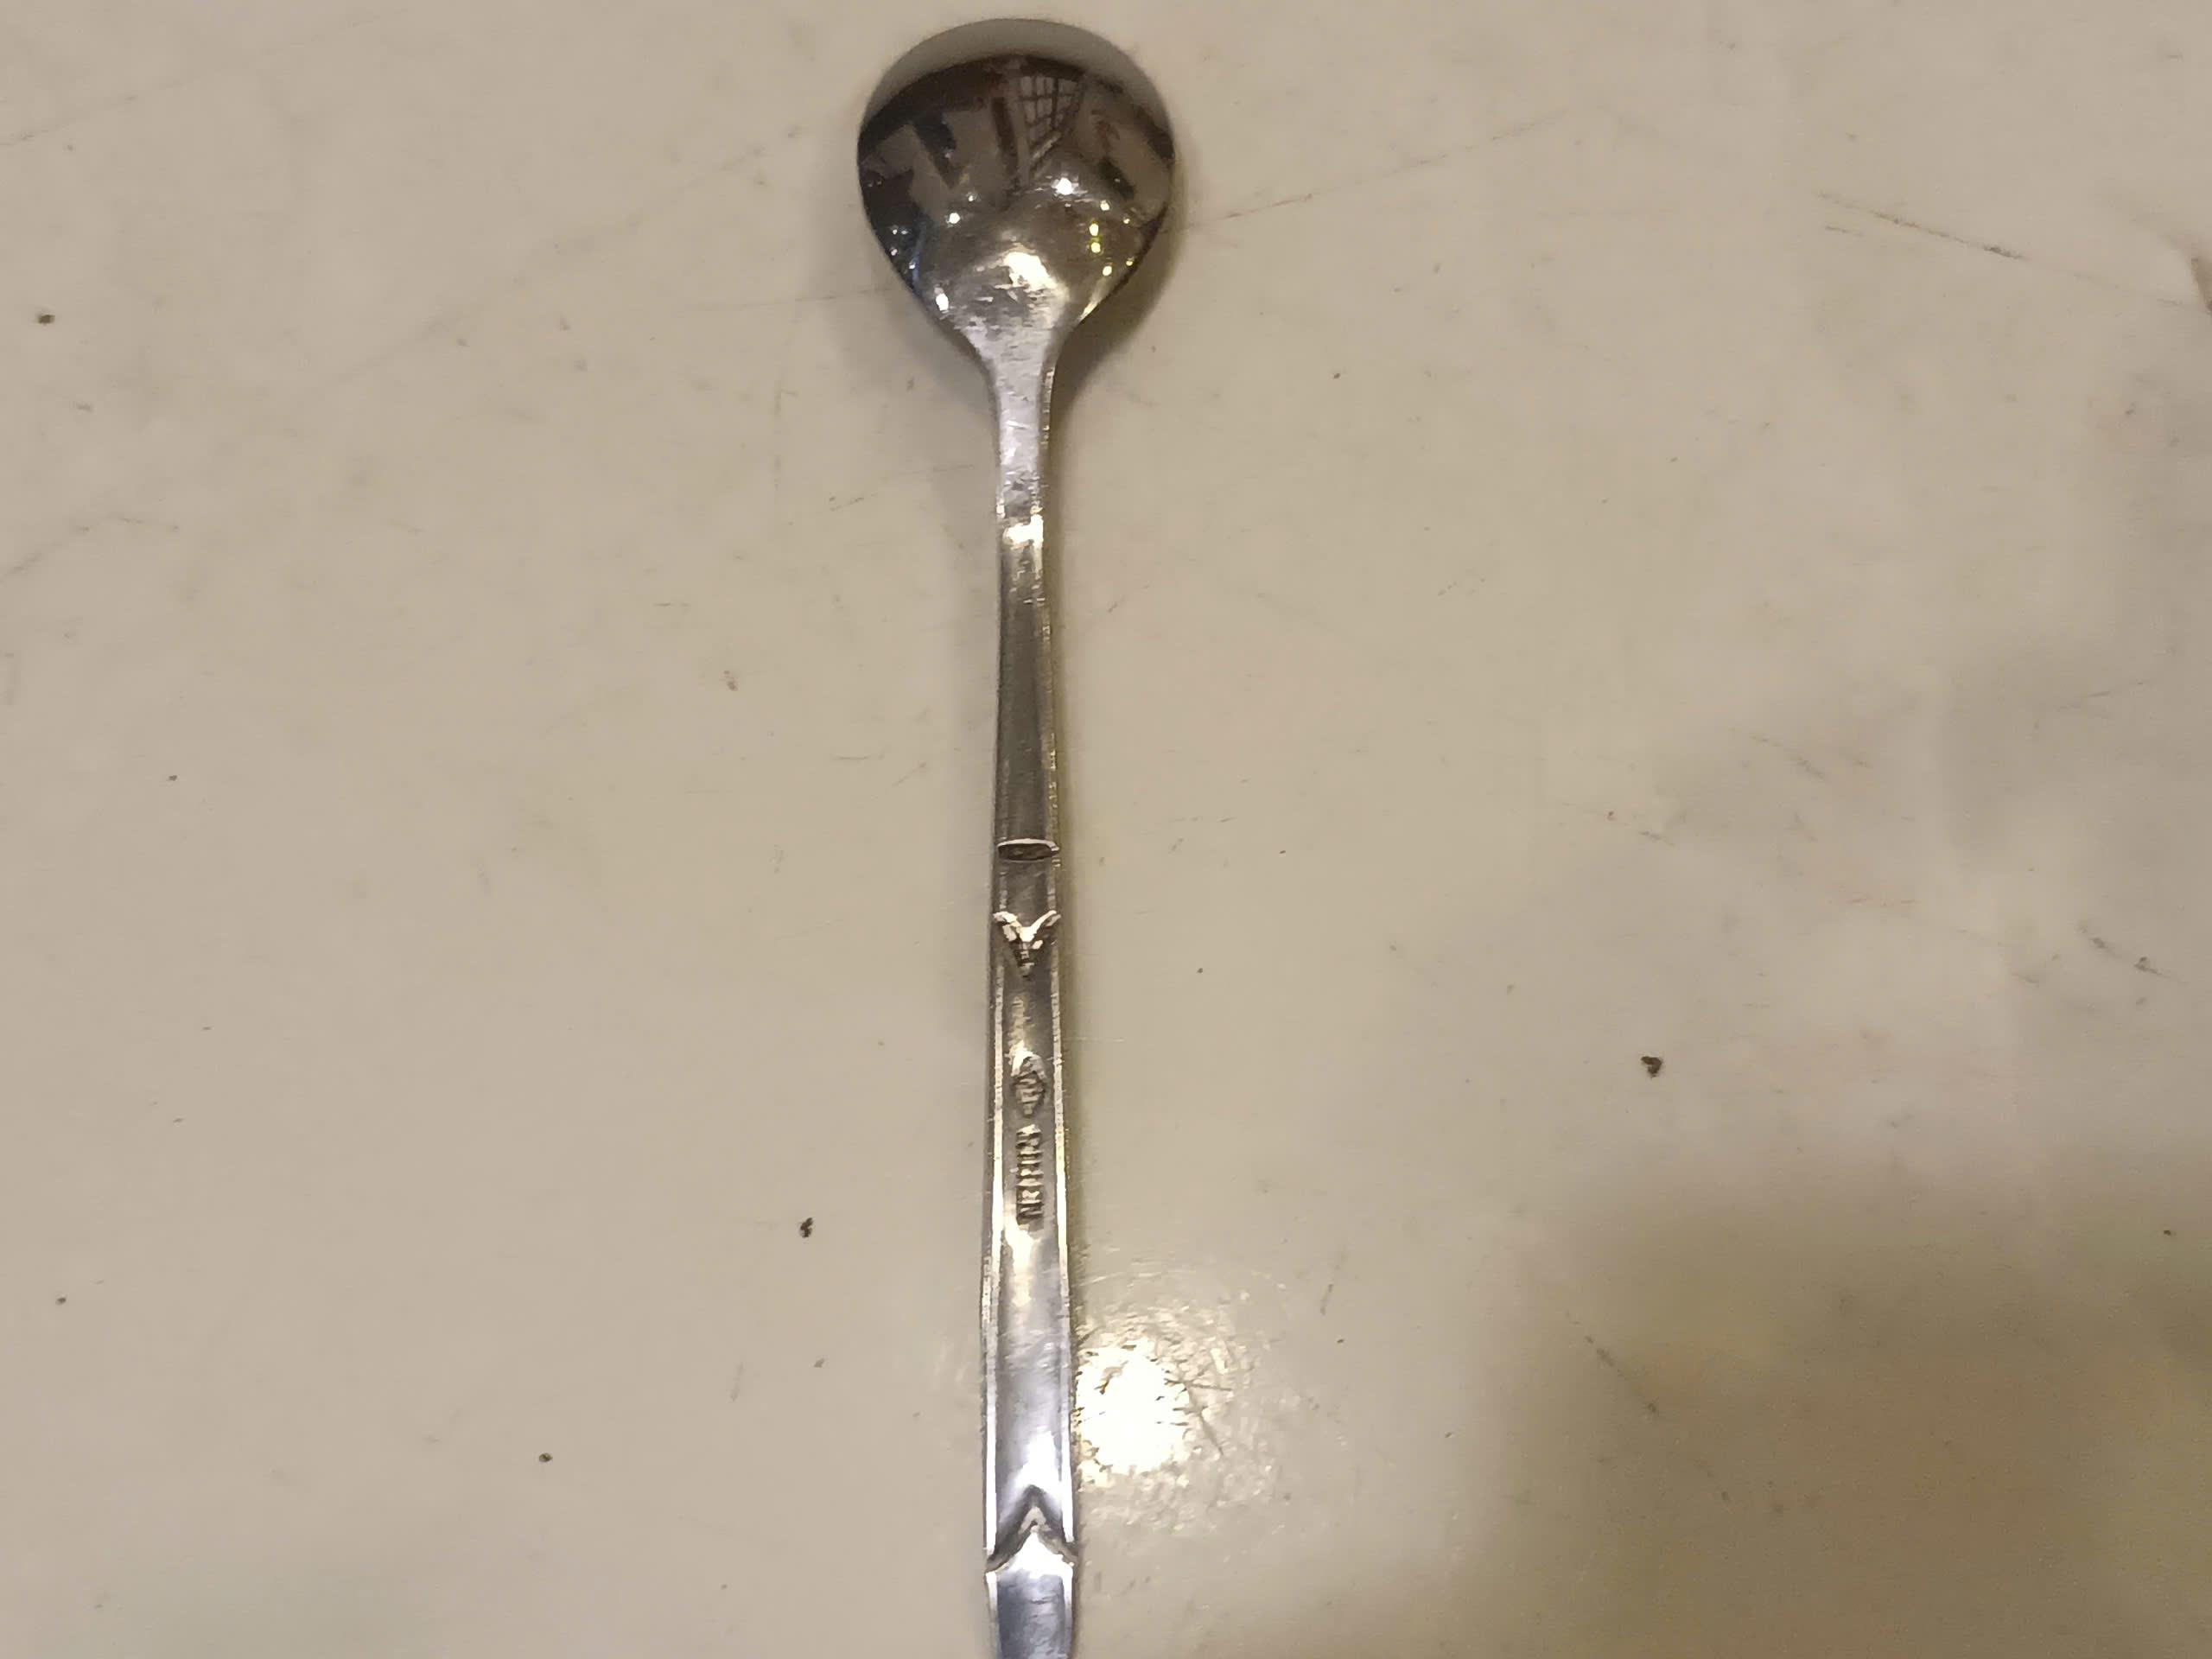Vo co: (860, 17, 1176, 1659)
